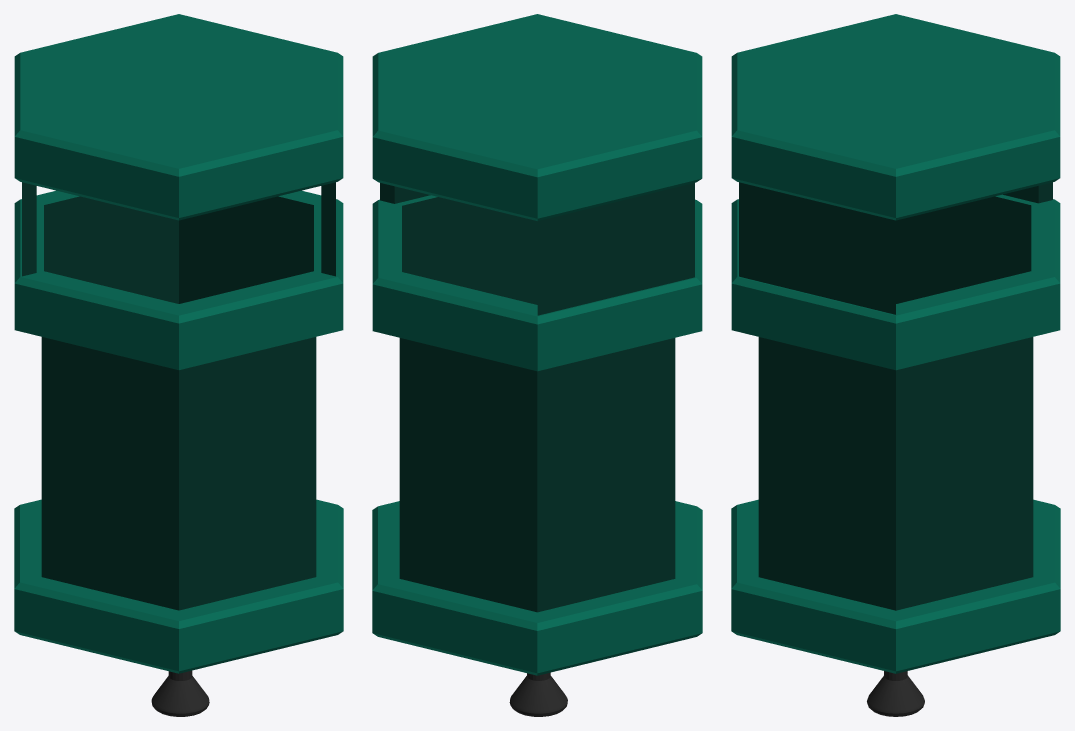
File: 01_GARBAGE.fbx
3 views of the same model, side by side, from view 1: azimuth 30°, elevation 25°; view 2: azimuth 150°, elevation 25°; view 3: azimuth 270°, elevation 25° (orthographic).
Visible parts, largest first — view 1: GARB_BODY, GARB_FEET_1; view 2: GARB_BODY, GARB_FEET_2; view 3: GARB_BODY, GARB_FEET_3.
Boxes of the visible parts, bbox=[...] form: GARB_BODY: bbox=[14, 14, 343, 673]; GARB_FEET_1: bbox=[151, 670, 209, 716]; GARB_BODY: bbox=[372, 14, 702, 675]; GARB_FEET_2: bbox=[509, 672, 567, 716]; GARB_BODY: bbox=[731, 14, 1060, 673]; GARB_FEET_3: bbox=[867, 671, 924, 716].
Size of the model in its own units: 79.51 by 129 by 68.86.
